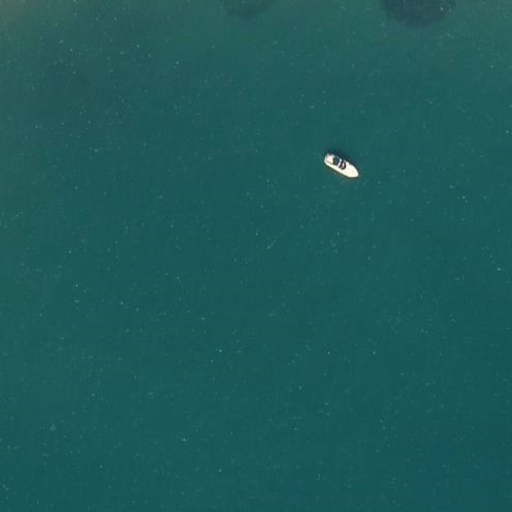ship: (322, 149, 362, 180)
